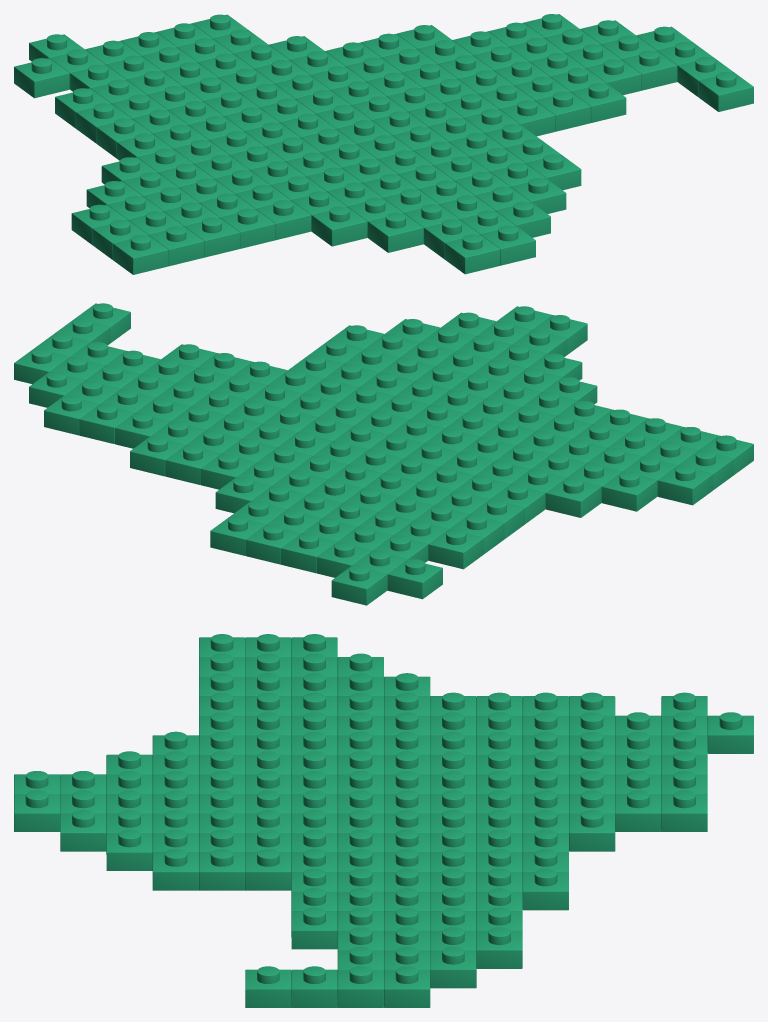
The model's file is Congo.fbx.
3 renders of one model, top to bottom at view 1: azimuth 30°, elevation 25°; view 2: azimuth 150°, elevation 25°; view 3: azimuth 270°, elevation 25°, orthographic. The views are drawn at different scales.
Parts seen in each view (by area): view 1: Cylinder_40; view 2: Cylinder_40; view 3: Cylinder_40.
Part boxes in pixels (x1,y1,x2,y2): Cylinder_40: [14, 14, 753, 274]; Cylinder_40: [14, 303, 753, 605]; Cylinder_40: [14, 634, 753, 1007].
Bounding box in the file's own units: 1800 × 65.03 × 1600.
